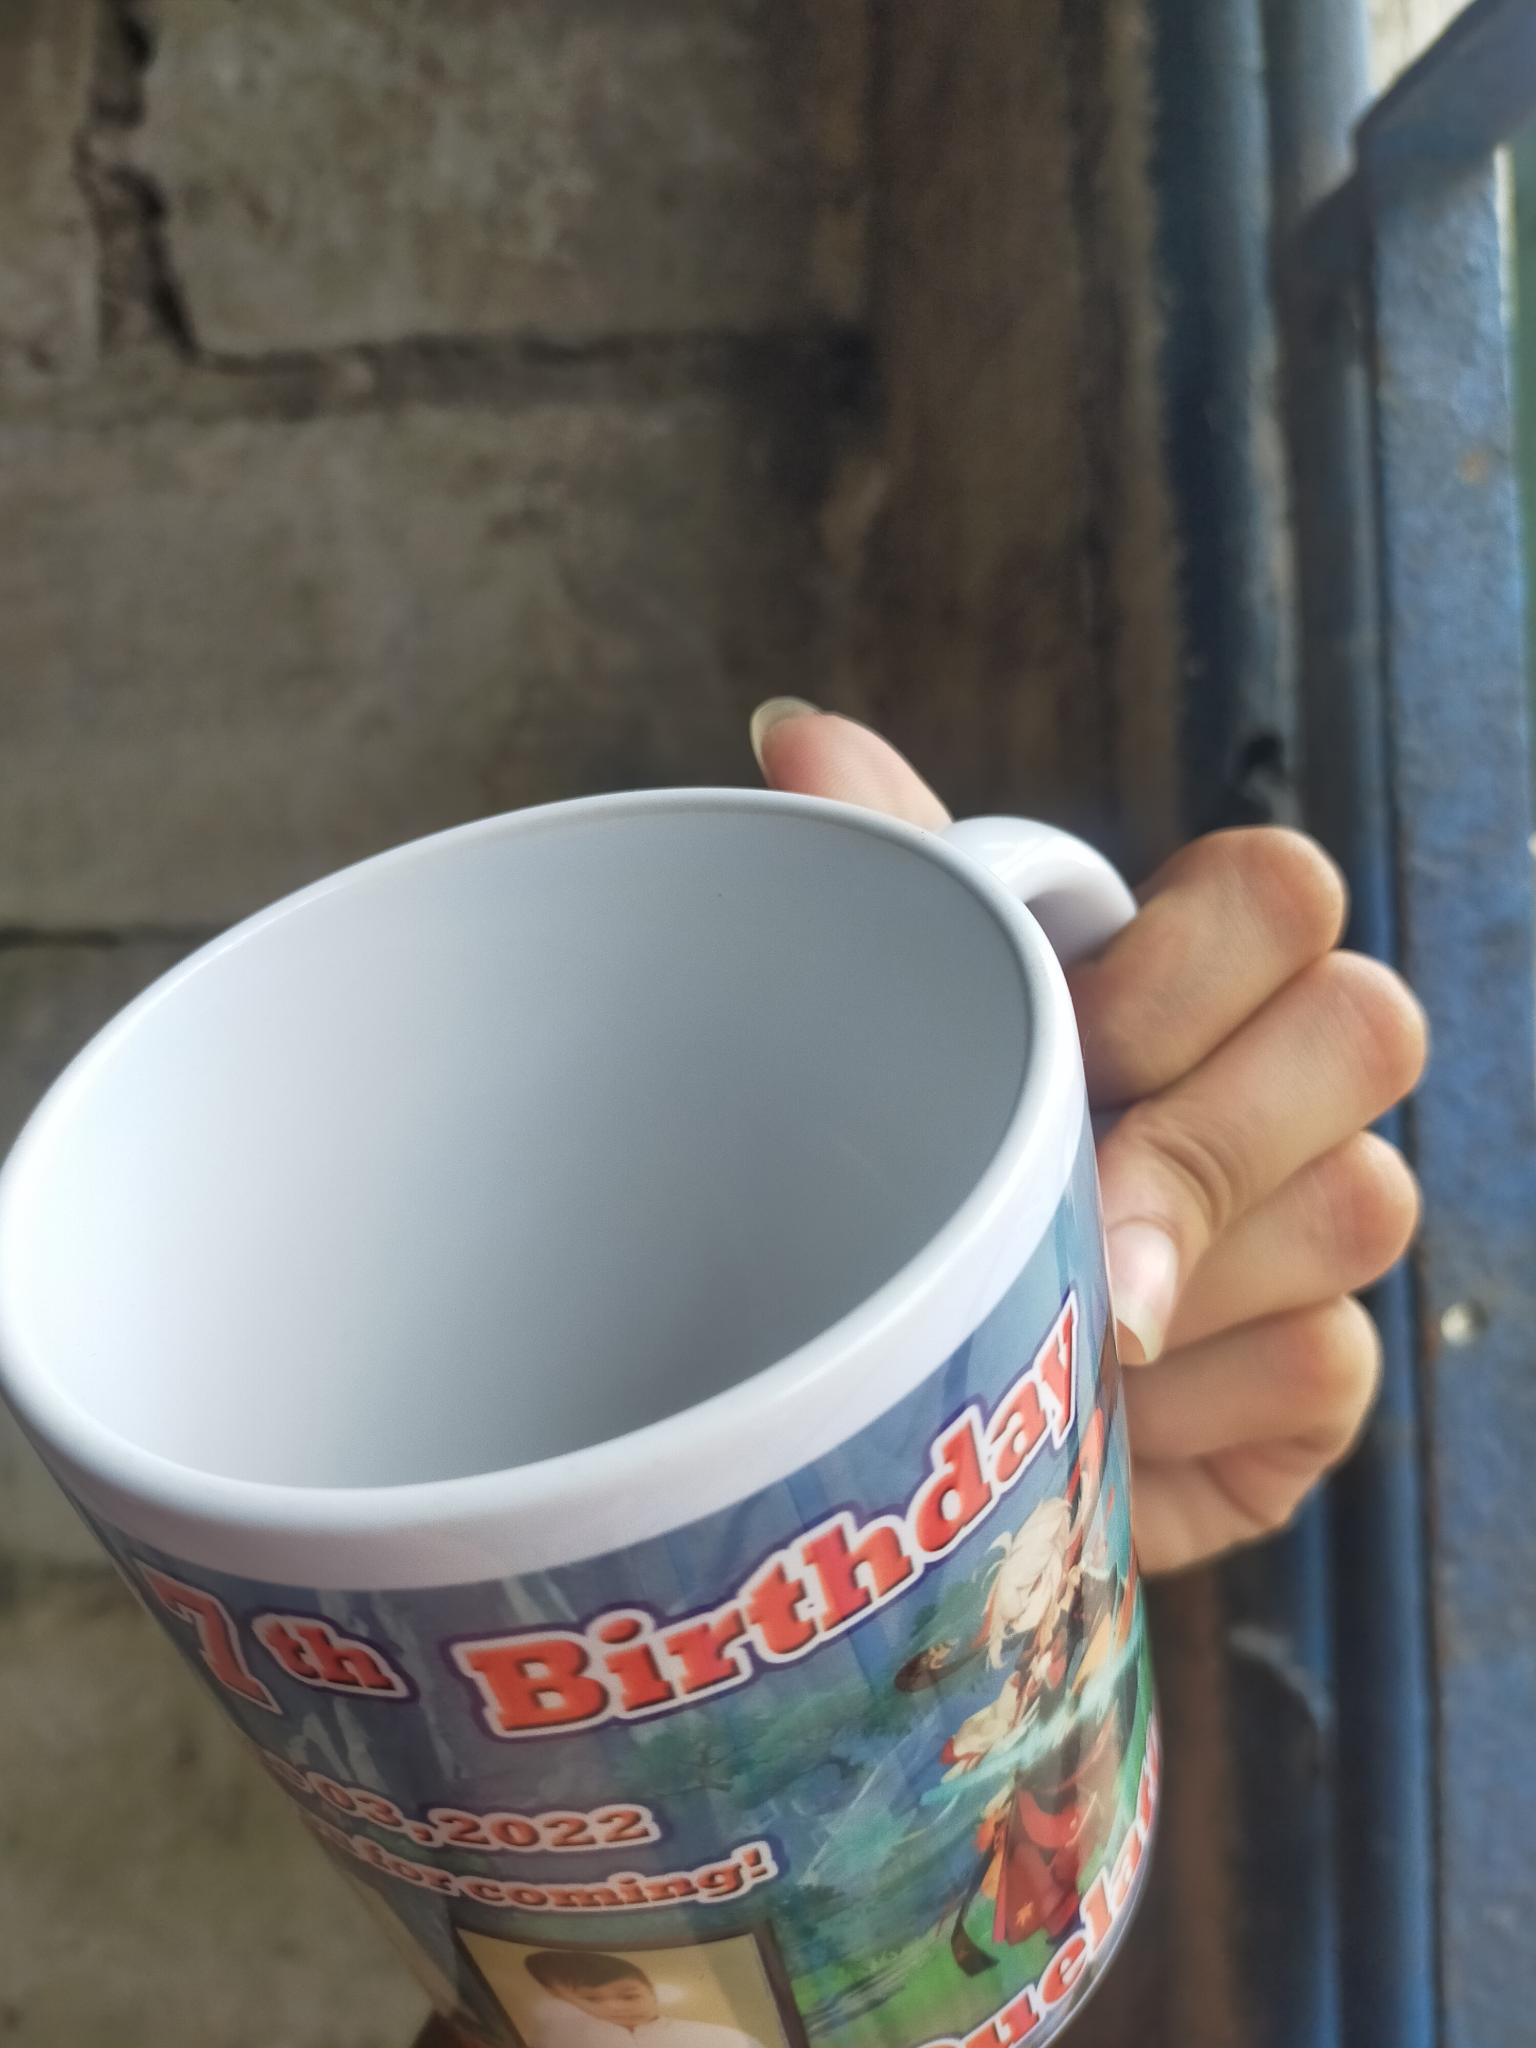Coffee Mug: (0, 785, 1157, 2048)
